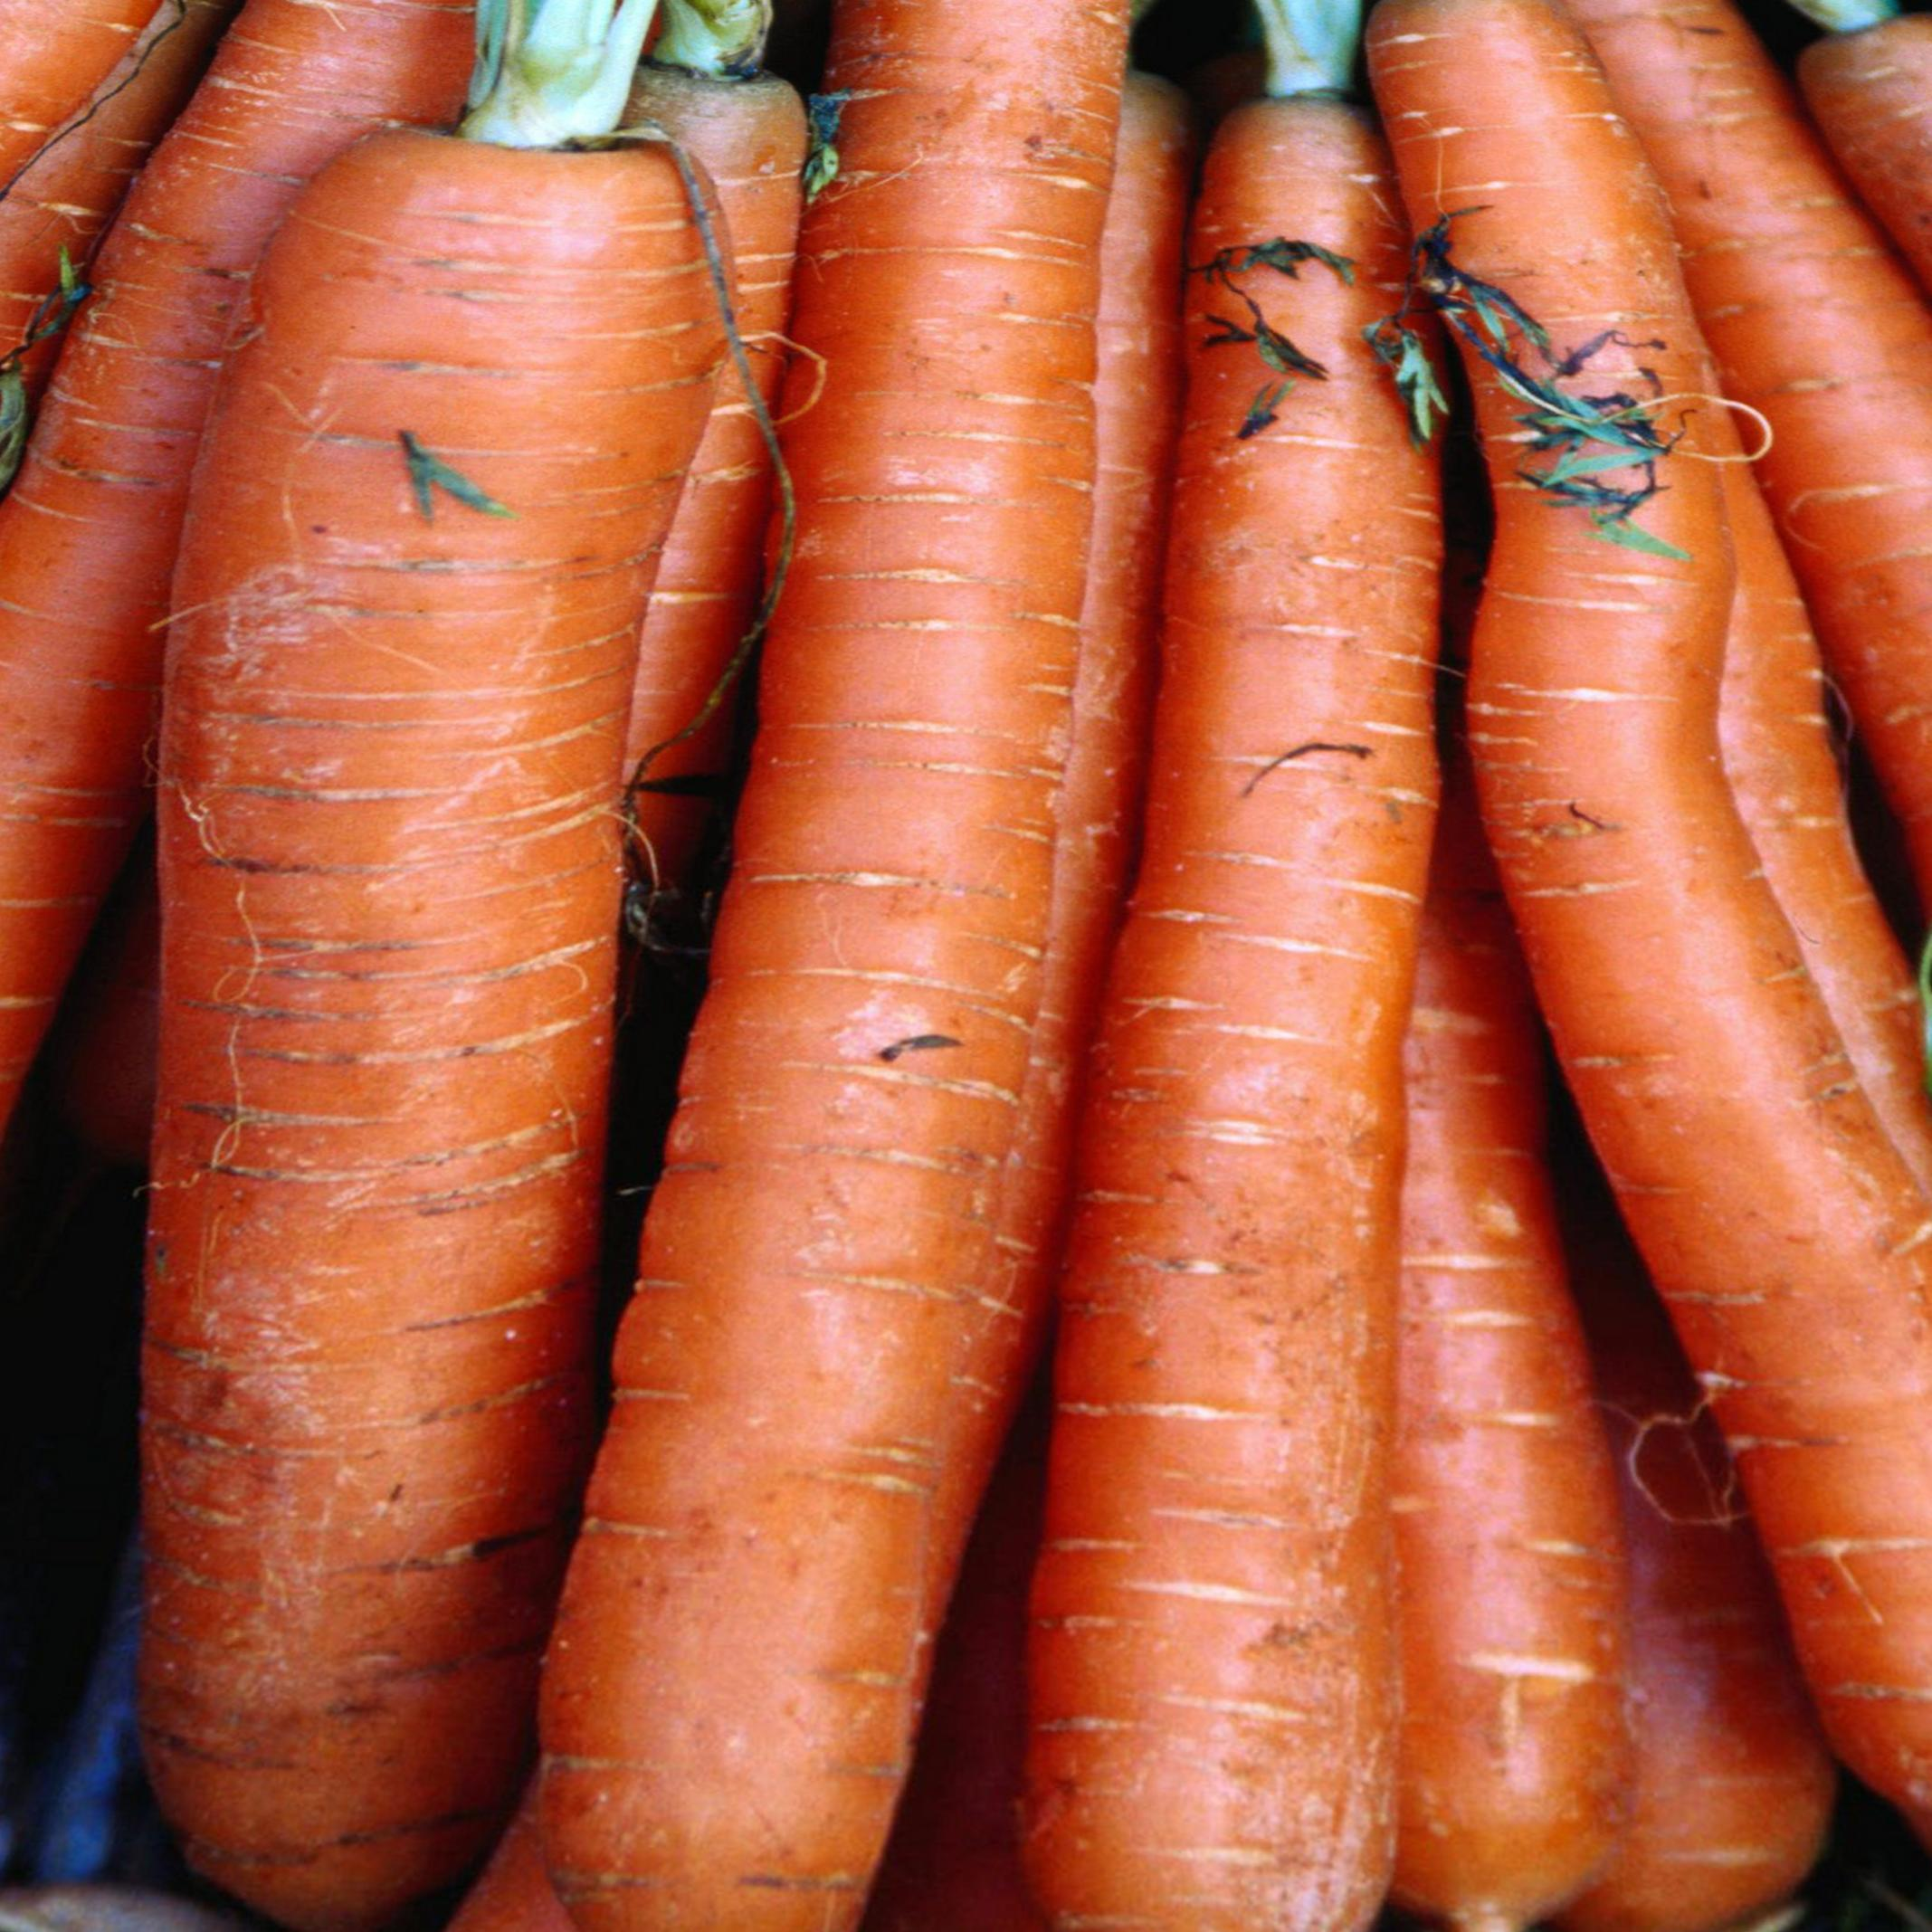carrot: (731, 12, 1932, 1932), (87, 64, 646, 1932)
